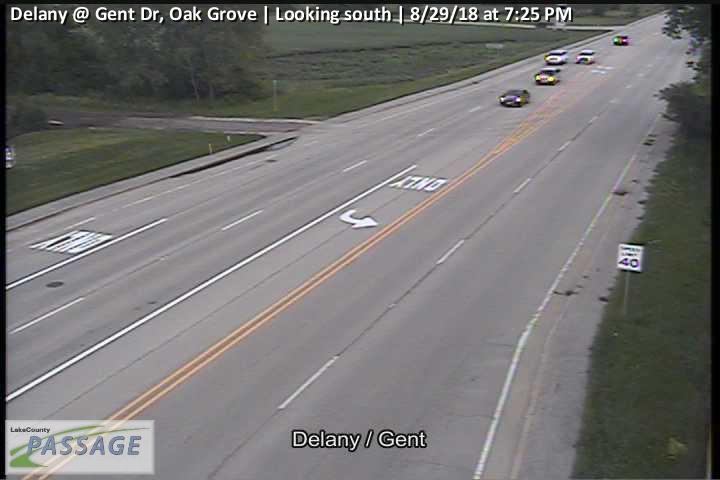SUV: (535, 67, 562, 85), (545, 48, 568, 64), (576, 50, 597, 64), (614, 33, 628, 44)
Sedan: (500, 88, 530, 108)
